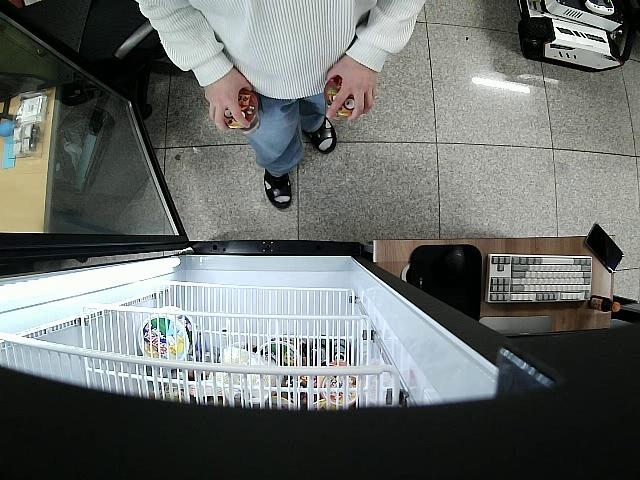00_hand: (325, 61, 379, 121), (204, 75, 253, 131)
06_nuguri_S: (223, 87, 261, 134), (323, 75, 355, 118)
